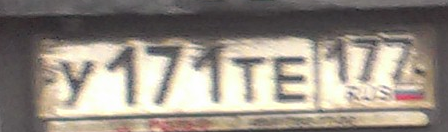character: (143, 40, 183, 111), (55, 54, 97, 112), (105, 42, 141, 109), (192, 42, 227, 106), (269, 52, 309, 103), (232, 53, 266, 106), (382, 31, 415, 83), (351, 33, 382, 82), (322, 35, 350, 83)
